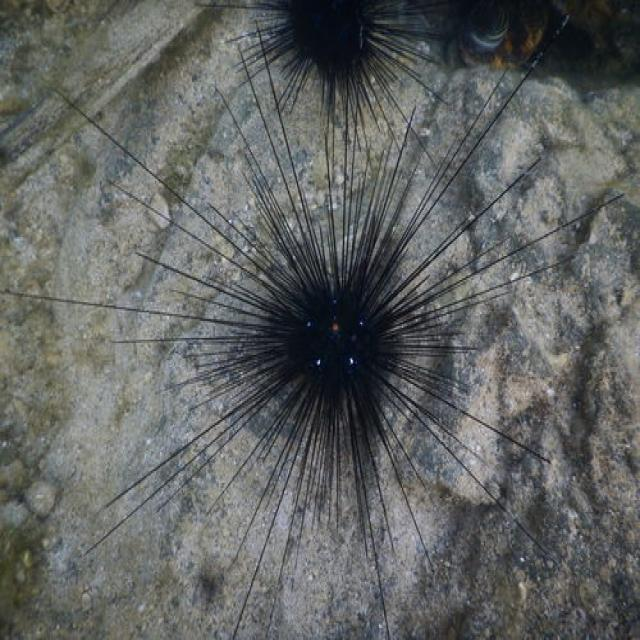Urchin: (46, 36, 571, 614), (223, 1, 449, 130)
